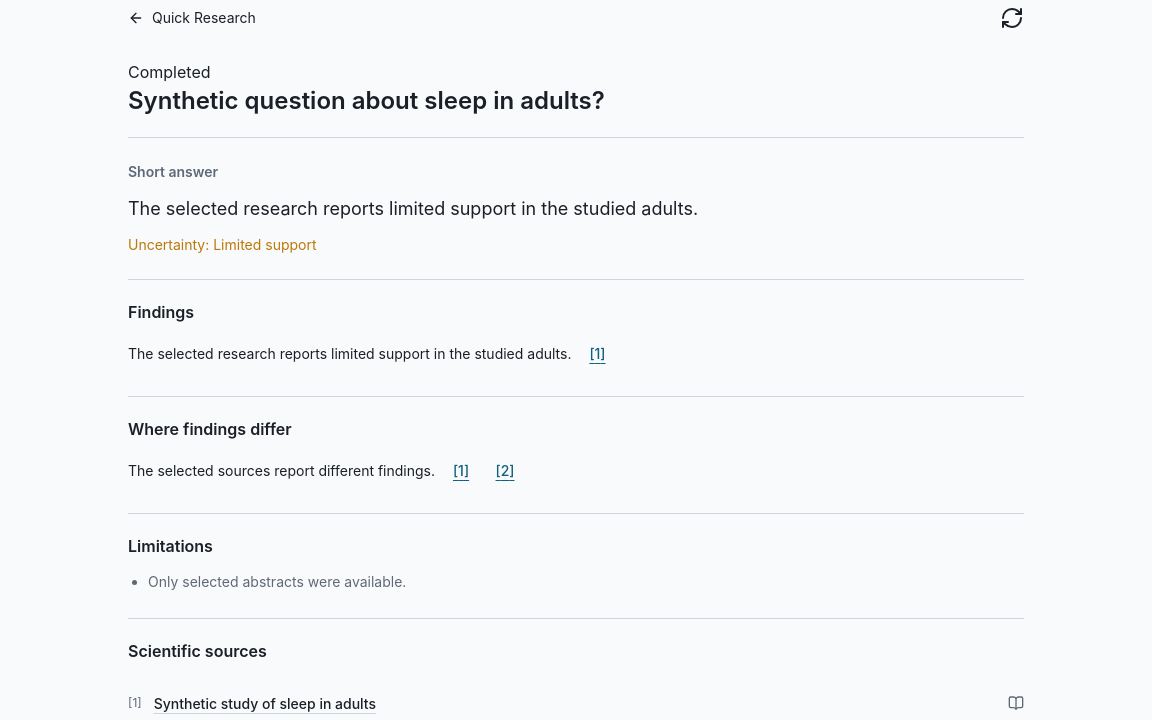
Scenario: Quick result presentation › renders only saved contradictions and their two distinct source references
expect the heading "Where findings differ" is shown: met, box [128,419,292,439]
Click the button named "View source 2 and supporting excerpt" at (505, 471), box [487,453,523,489]
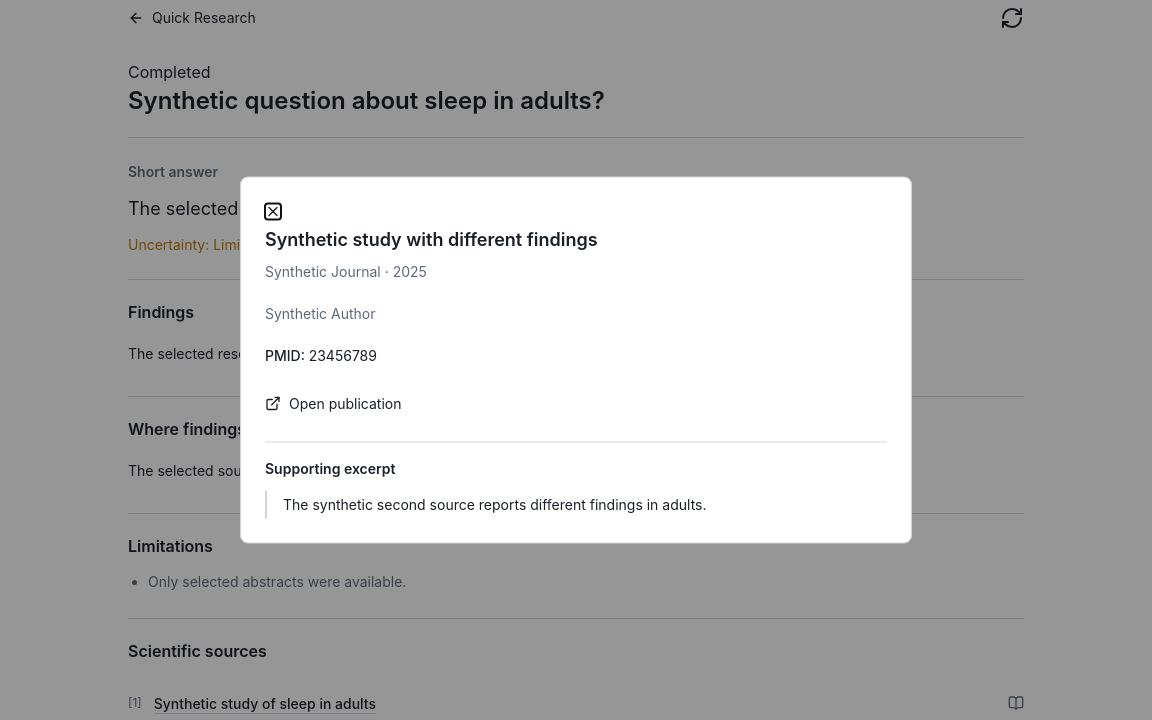
expect the text "The synthetic second source reports different findings in adults." is shown: met, box [265,490,887,518]
